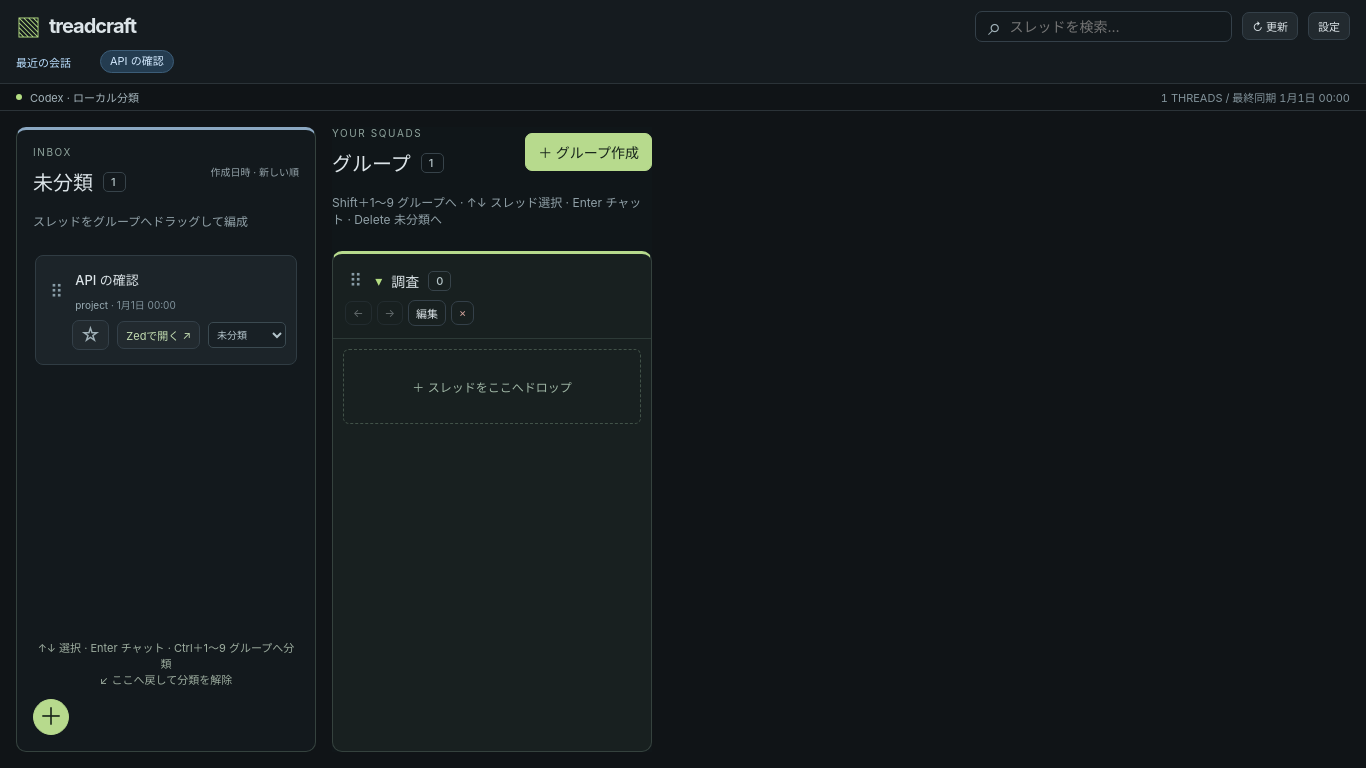
it: retains the board and explains a failed write
The image size is (1366, 768).
Select "調査" in the dropdown at (247, 335), box [208,322,286,348]
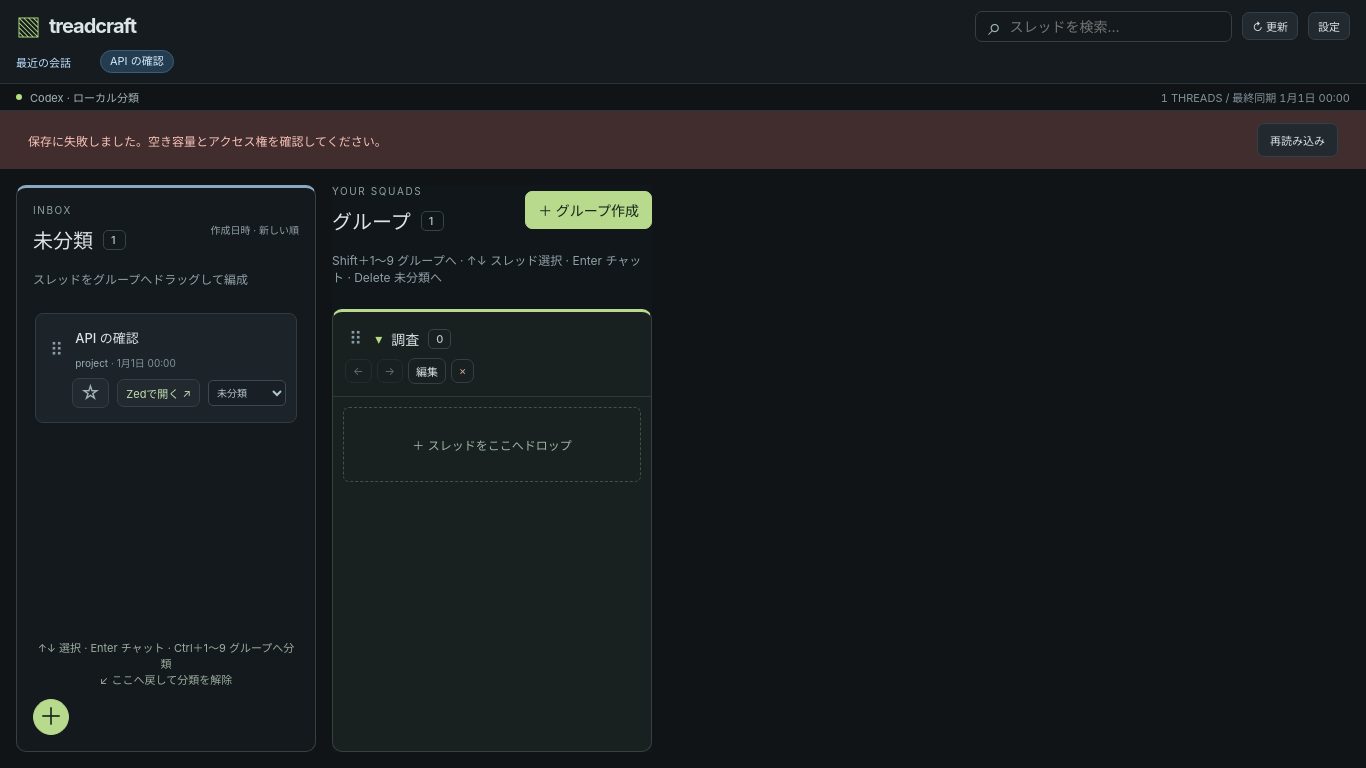
Expected: the message "保存に失敗しました。空き容量とアクセス権を確認してください。 再読み込み" is shown, [0,111,1365,169]
